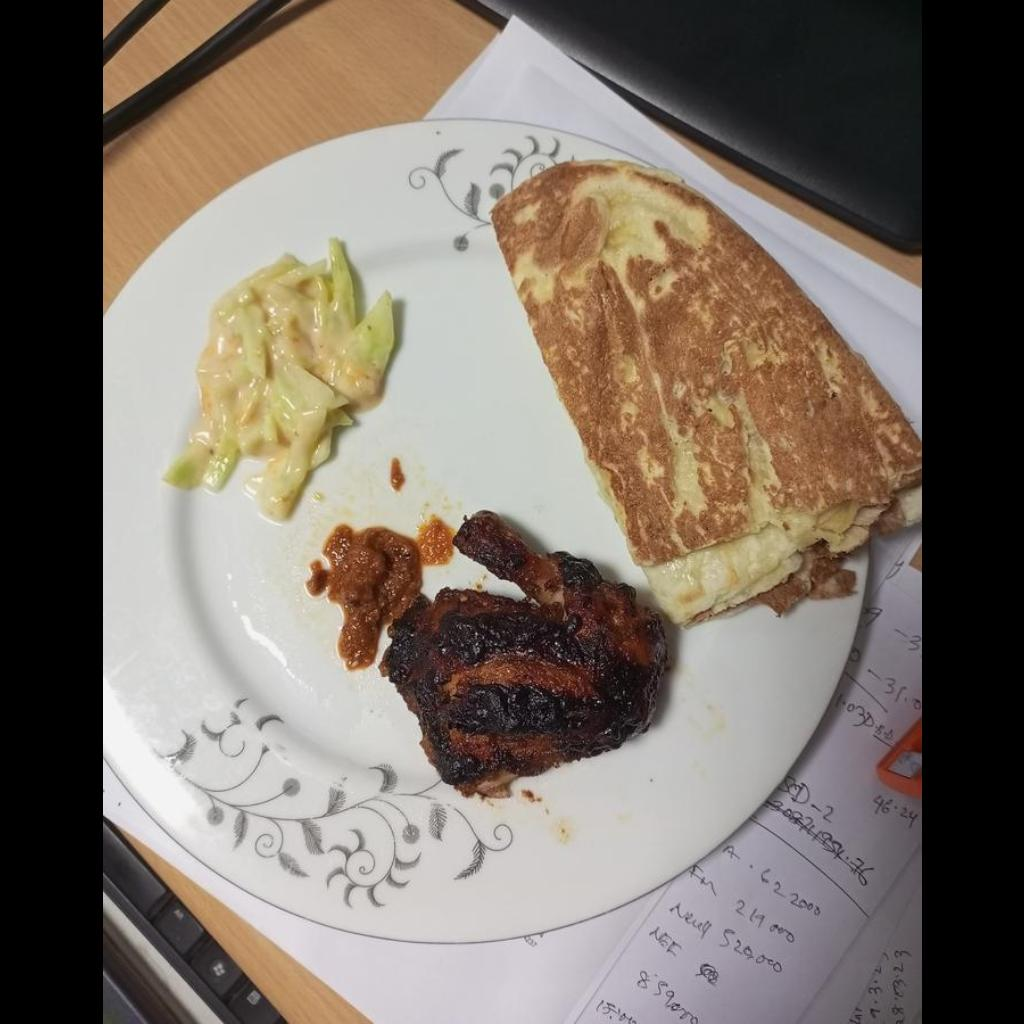chicken: (381, 517, 657, 784)
ruti: (498, 160, 920, 616)
salad: (165, 238, 394, 521)
